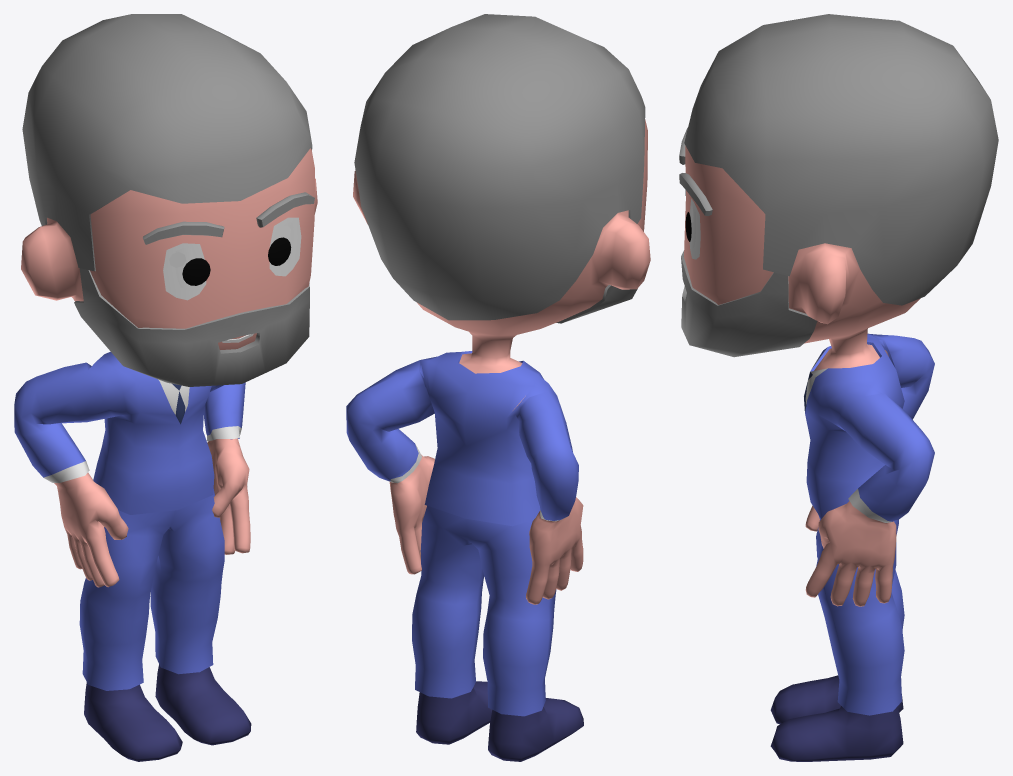
The model's file is Personaje_juzgado.fbx.
3 renders of one model, left to right at view 1: azimuth 30°, elevation 25°; view 2: azimuth 150°, elevation 25°; view 3: azimuth 270°, elevation 25°, orthographic.
Visible parts, largest first — view 1: hair4.002, body.006, shirt3.006, pants1.006, beard1.001, socks.006, eyes7, eyebrows1.006, eyes6.006; view 2: hair4.002, shirt3.006, pants1.006, body.006, socks.006, beard1.001; view 3: hair4.002, body.006, shirt3.006, pants1.006, socks.006, beard1.001, eyebrows1.006, eyes7.
Part boxes in pixels (x1,y1,x2,y2): hair4.002: (22,14,312,271); body.006: (21,148,317,587); shirt3.006: (14,351,245,514); pants1.006: (79,489,224,690); beard1.001: (74,268,309,386); socks.006: (84,664,251,761); eyes7: (163,217,301,300); eyebrows1.006: (143,192,314,244); eyes6.006: (182,237,291,285); hair4.002: (354,14,645,320); shirt3.006: (346,351,578,526); pants1.006: (412,505,556,716); body.006: (353,119,650,604); socks.006: (416,681,583,761); beard1.001: (556,284,637,323); hair4.002: (684,14,998,305); body.006: (684,145,920,606); shirt3.006: (804,333,934,522); pants1.006: (816,515,904,715); socks.006: (770,675,903,761); beard1.001: (681,251,817,357); eyebrows1.006: (679,127,712,215); eyes7: (689,198,700,259).
Bounding box in the file's own units: 74.78 × 172 × 70.34.
